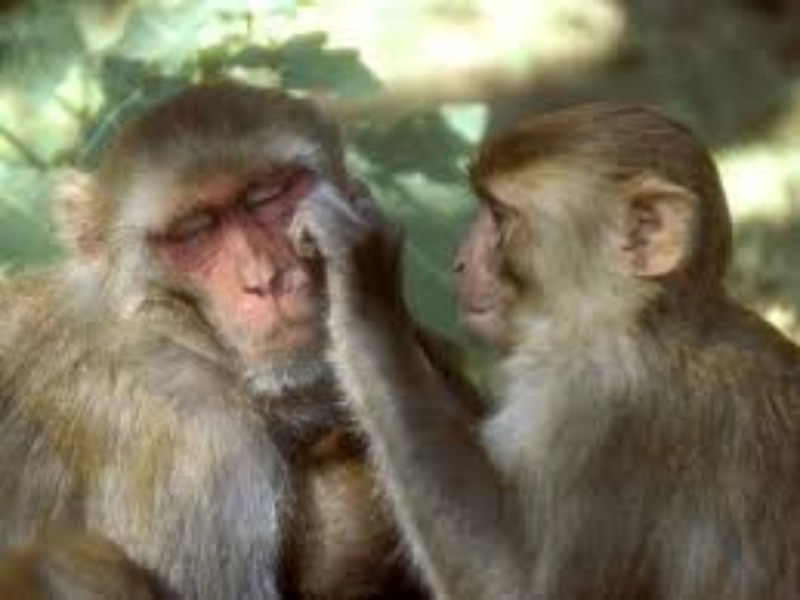monkey: (7, 73, 787, 591)
